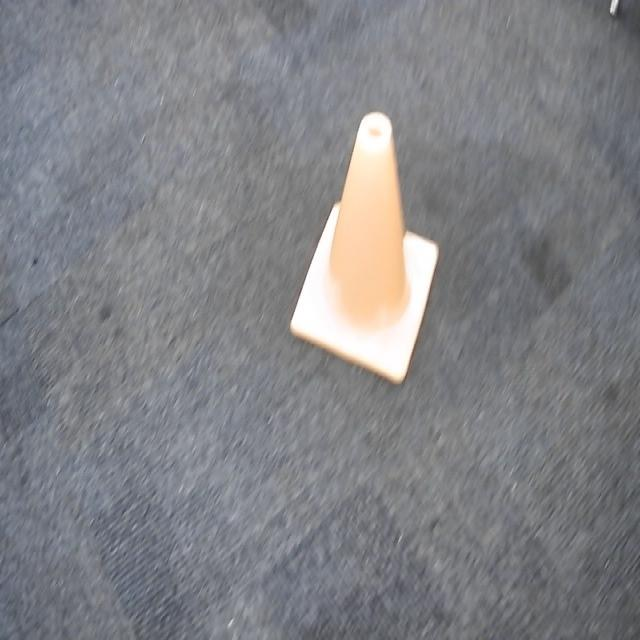cone: (278, 112, 443, 401)
